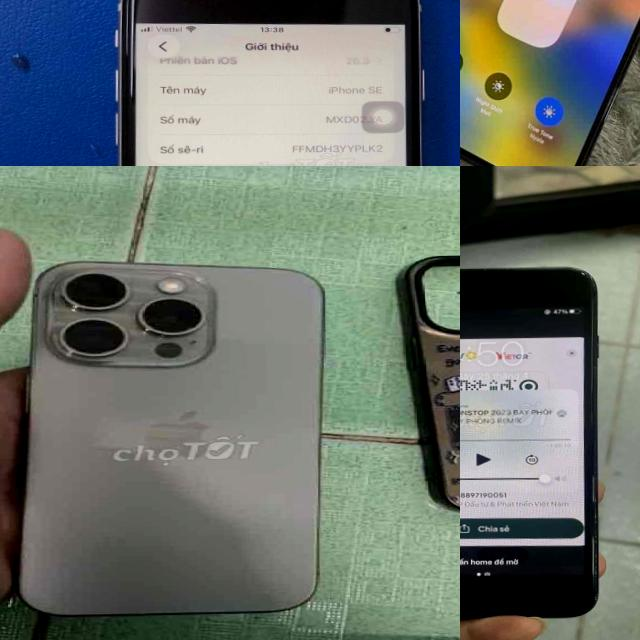scratch: (587, 466, 601, 604), (564, 264, 598, 286)
